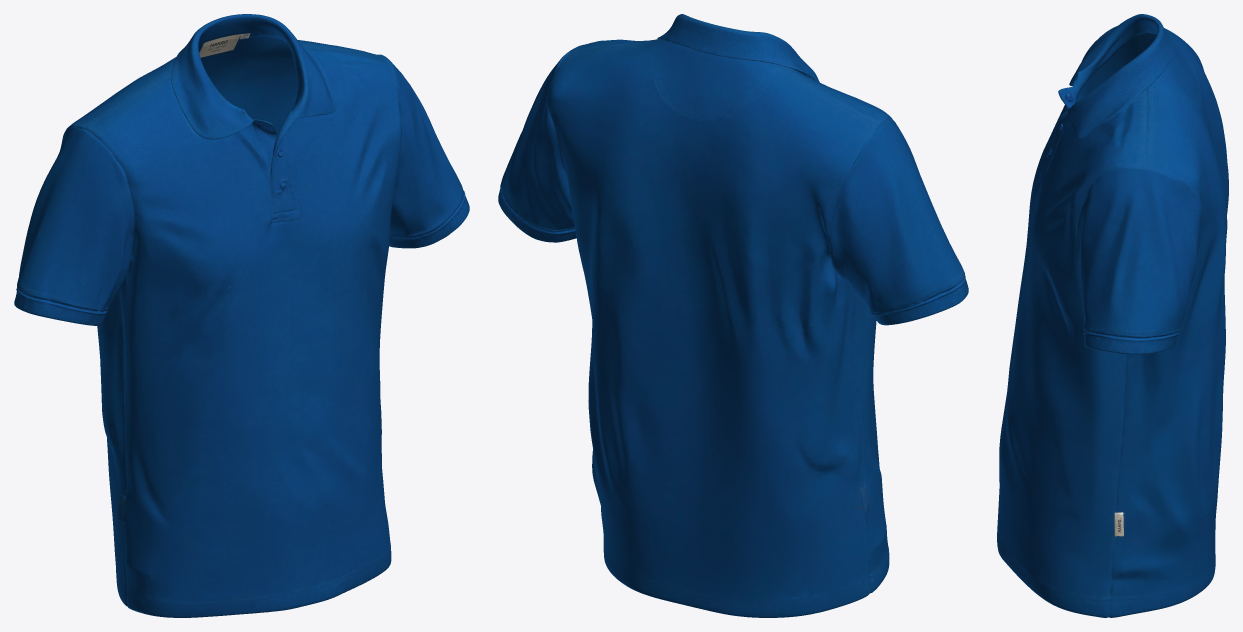
The model's file is sobral-hakro-polo-klein.glb.
3 renders of one model, left to right at view 1: azimuth 30°, elevation 25°; view 2: azimuth 150°, elevation 25°; view 3: azimuth 270°, elevation 25°, orthographic. The views are drawn at different scales.
Visible parts, largest first — view 1: Mesh_0; view 2: Mesh_0; view 3: Mesh_0.
Part boxes in pixels (x1,y1,x2,y2): Mesh_0: (14, 14, 469, 617); Mesh_0: (498, 14, 968, 617); Mesh_0: (997, 14, 1228, 617).
Bounding box in the file's own units: 1.63 × 1.9 × 0.7522.
Materials: 4 (4 with a texture image).
